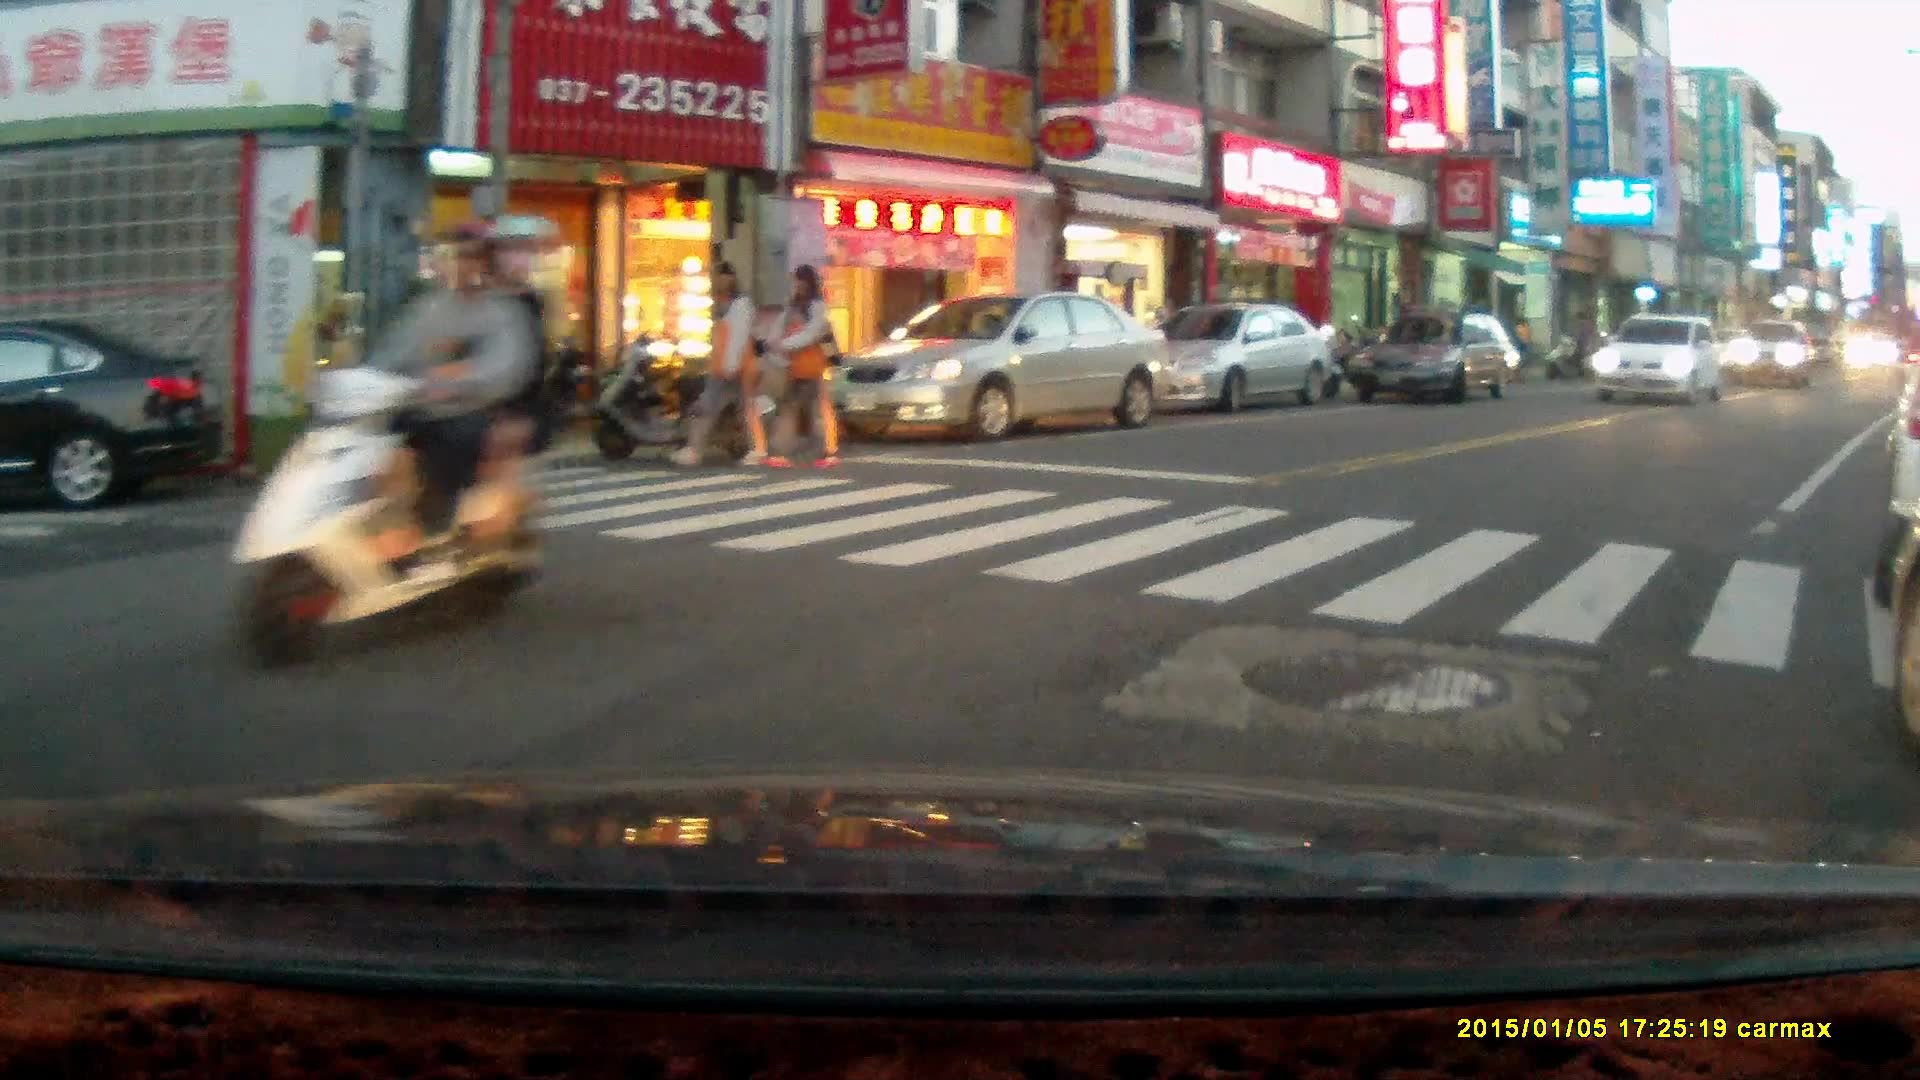pedestrian: (667, 258, 769, 468), (758, 260, 843, 471)
rider: (223, 211, 555, 683)
vehicle: (819, 294, 1173, 442), (1, 312, 224, 512), (1116, 301, 1336, 413), (1347, 312, 1526, 405), (1588, 314, 1727, 404), (1721, 318, 1820, 390), (1837, 329, 1894, 377)
